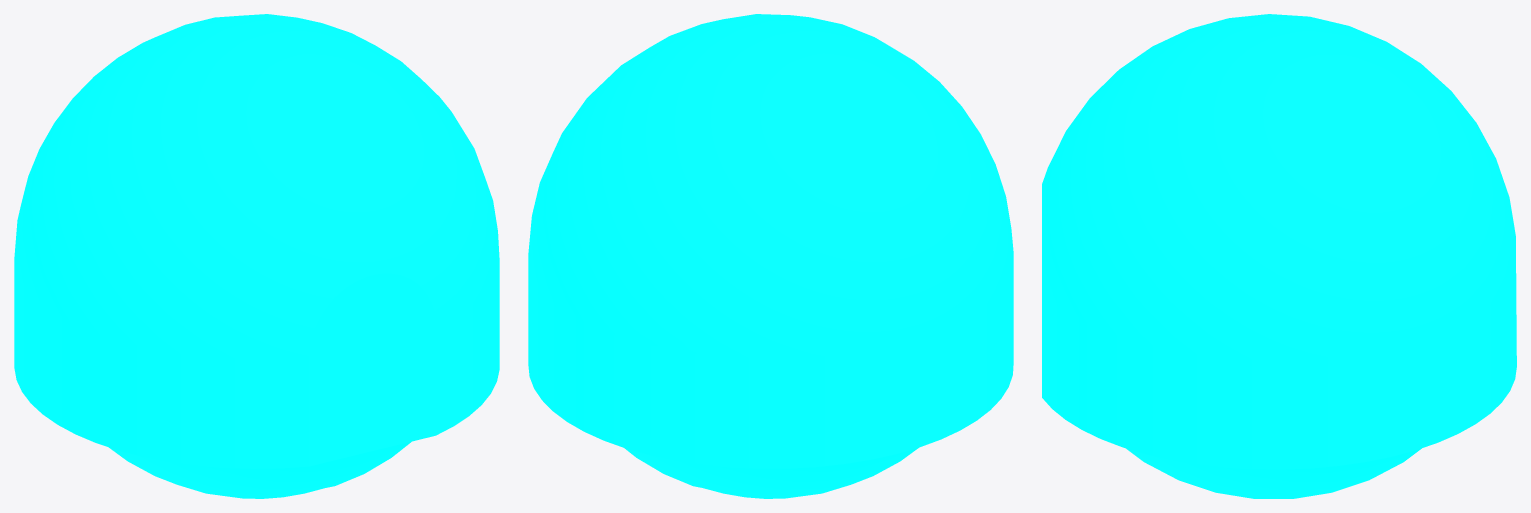
Rendered from front.dae.
3 views of the same model, side by side, from view 1: azimuth 30°, elevation 25°; view 2: azimuth 150°, elevation 25°; view 3: azimuth 270°, elevation 25° (orthographic).
Parts seen in each view (by area): view 1: ID2; view 2: ID2; view 3: ID2.
Boxes of the visible parts, <box> form: ID2: <box>14,14,499,498</box>; ID2: <box>528,14,1013,498</box>; ID2: <box>1042,14,1516,498</box>.
Bounding box in the file's own units: 0.0999 × 0.0977 × 0.0985.
